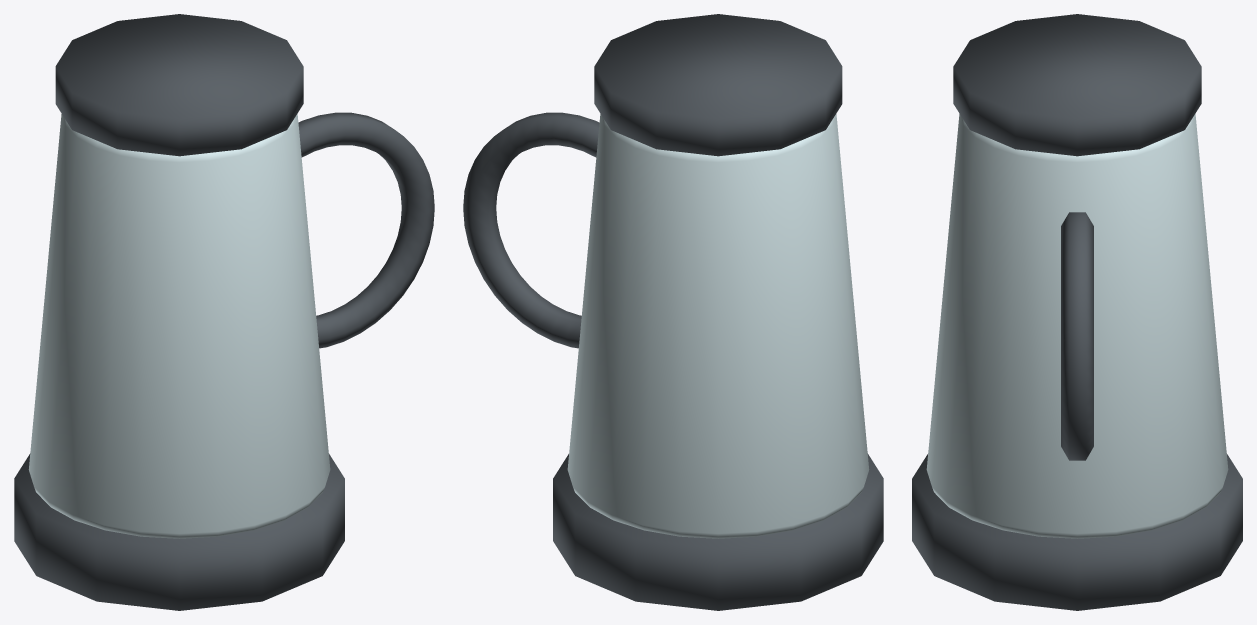
Rendered from atelier-blender.glb.
3 views of the same model, side by side, from view 1: azimuth 30°, elevation 25°; view 2: azimuth 150°, elevation 25°; view 3: azimuth 270°, elevation 25° (orthographic).
Parts seen in each view (by area): view 1: glass.014, metal.124; view 2: glass.014, metal.124; view 3: glass.014, metal.124.
Boxes of the visible parts, x1,y1,x2,y2 form: glass.014: [28, 114, 330, 538]; metal.124: [14, 14, 434, 610]; glass.014: [567, 114, 869, 538]; metal.124: [463, 14, 883, 610]; glass.014: [926, 113, 1228, 538]; metal.124: [912, 14, 1242, 610].
Size of the model in its own units: 0.3304 by 0.38 by 0.24.
